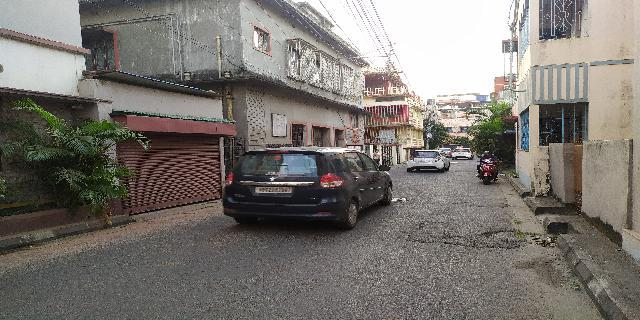Car: (218, 147, 394, 230), (406, 145, 450, 173), (452, 145, 475, 162)
Motorbike: (476, 143, 499, 188)
